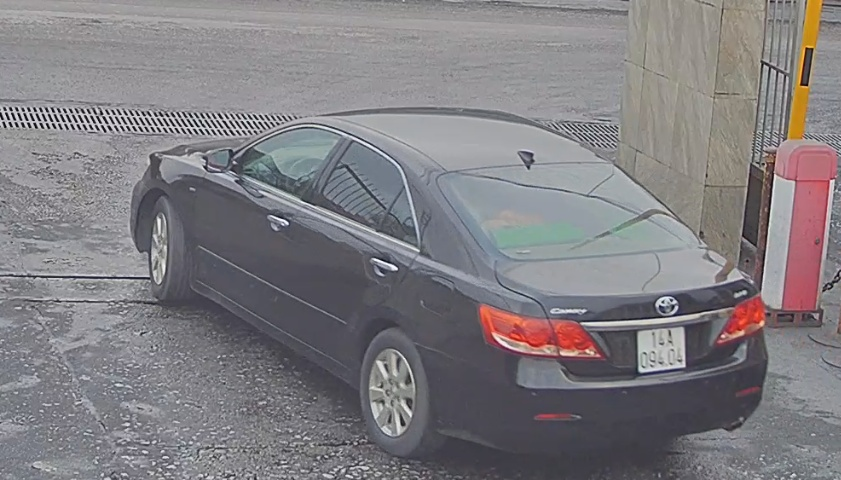vehicle plate: (625, 319, 708, 379)
